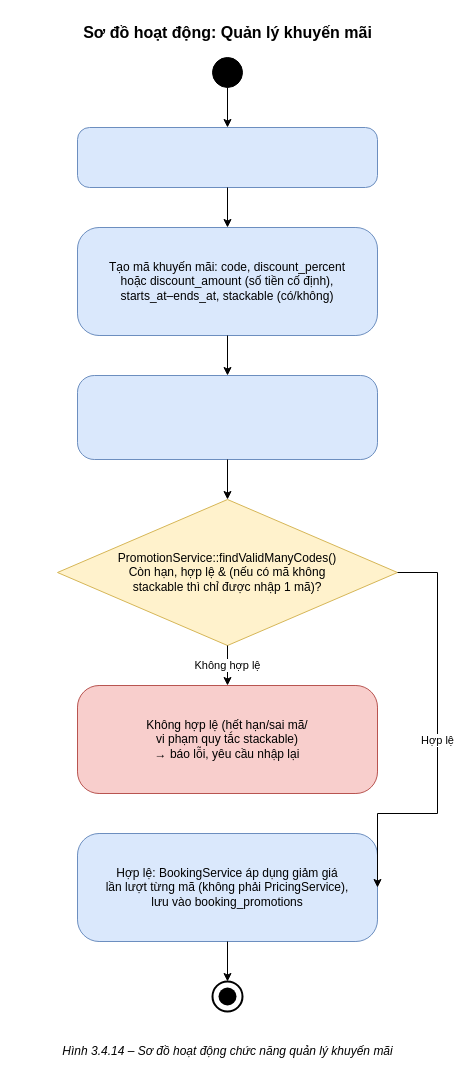
The diagram is 471 pixels wide and 1083 high, and some of its shapes have lost their labels. Here are the shapes that lost their labels. From the top down, the centre of each, then its label:
the point at 227,157: Admin mở /admin/promotions
the point at 227,417: Khách nhập 1 hoặc nhiều mã khi đặt phòng (promo_codes[])
